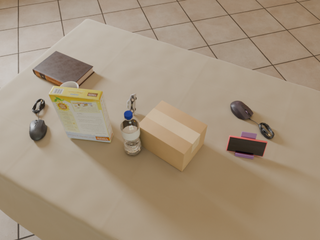book: (33, 51, 94, 86)
bottle: (120, 110, 141, 155)
box: (139, 101, 207, 171), (49, 86, 113, 142)
mouse: (231, 101, 253, 120), (29, 120, 47, 141)
phone: (226, 136, 267, 156)
toy_car: (127, 94, 137, 116)
